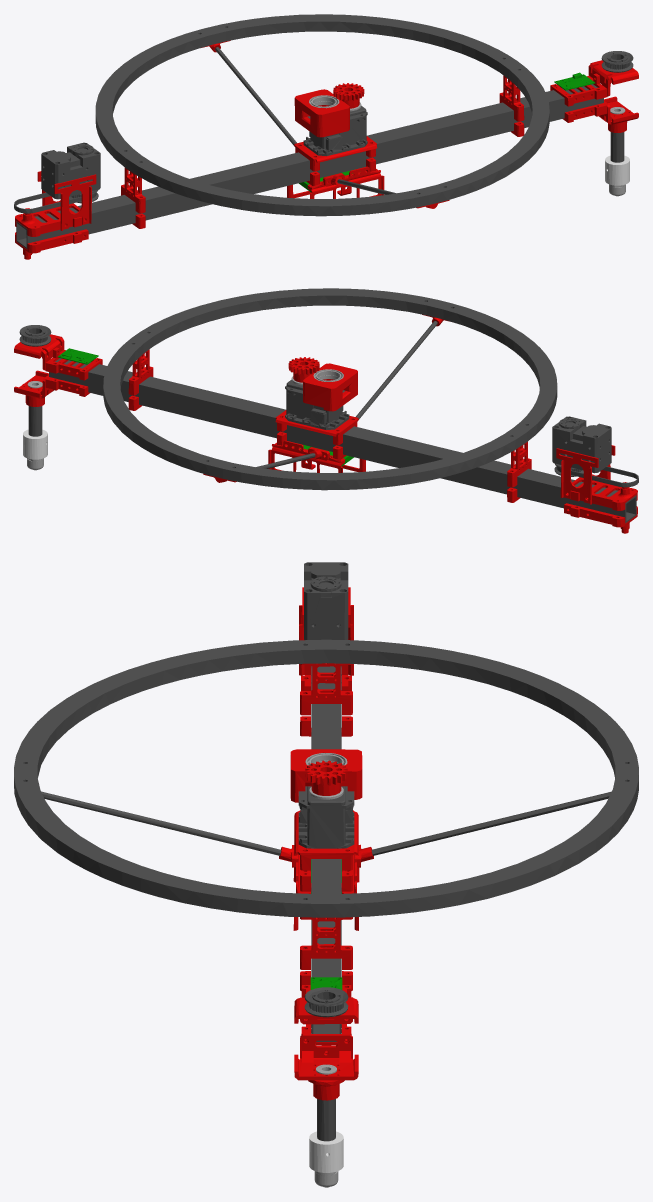
The model's file is general_link.dae.
The picture shows the model from 3 angles, top to bottom: view 1: azimuth 30°, elevation 25°; view 2: azimuth 150°, elevation 25°; view 3: azimuth 270°, elevation 25°; orthographic projection. The views are drawn at different scales.
Parts seen in each view (by area): view 1: Black, Red, Silver, White, Green; view 2: Black, Red, Silver, White, Green; view 3: Black, Red, White, Silver.
Boxes of the visible parts, left/top/right/bottom form: Black: left=14, top=14, right=633, bottom=248; Red: left=15, top=40, right=638, bottom=259; Silver: left=309, top=95, right=625, bottom=196; White: left=605, top=155, right=629, bottom=185; Green: left=299, top=72, right=595, bottom=192; Black: left=19, top=288, right=638, bottom=523; Red: left=14, top=314, right=637, bottom=533; Silver: left=27, top=369, right=343, bottom=470; White: left=23, top=429, right=47, bottom=459; Green: left=57, top=348, right=353, bottom=466; Black: left=14, top=562, right=638, bottom=1141; Red: left=279, top=587, right=373, bottom=1100; White: left=309, top=1131, right=343, bottom=1172; Silver: left=305, top=753, right=347, bottom=1187.
Bounding box in the file's own units: 0.6262 × 0.3999 × 0.1729.
